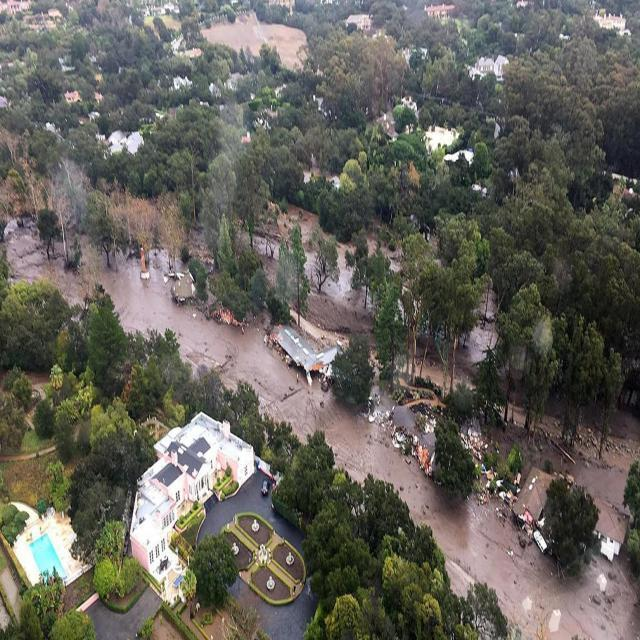flood: (5, 231, 640, 640), (573, 426, 640, 468), (468, 285, 497, 364), (320, 242, 354, 299), (418, 367, 444, 387)
house: (128, 408, 258, 612), (2, 494, 90, 590), (280, 318, 338, 374), (516, 468, 551, 524)
